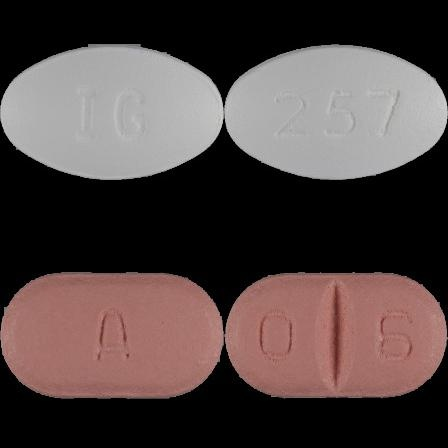10544-003: (0, 0, 224, 224)
